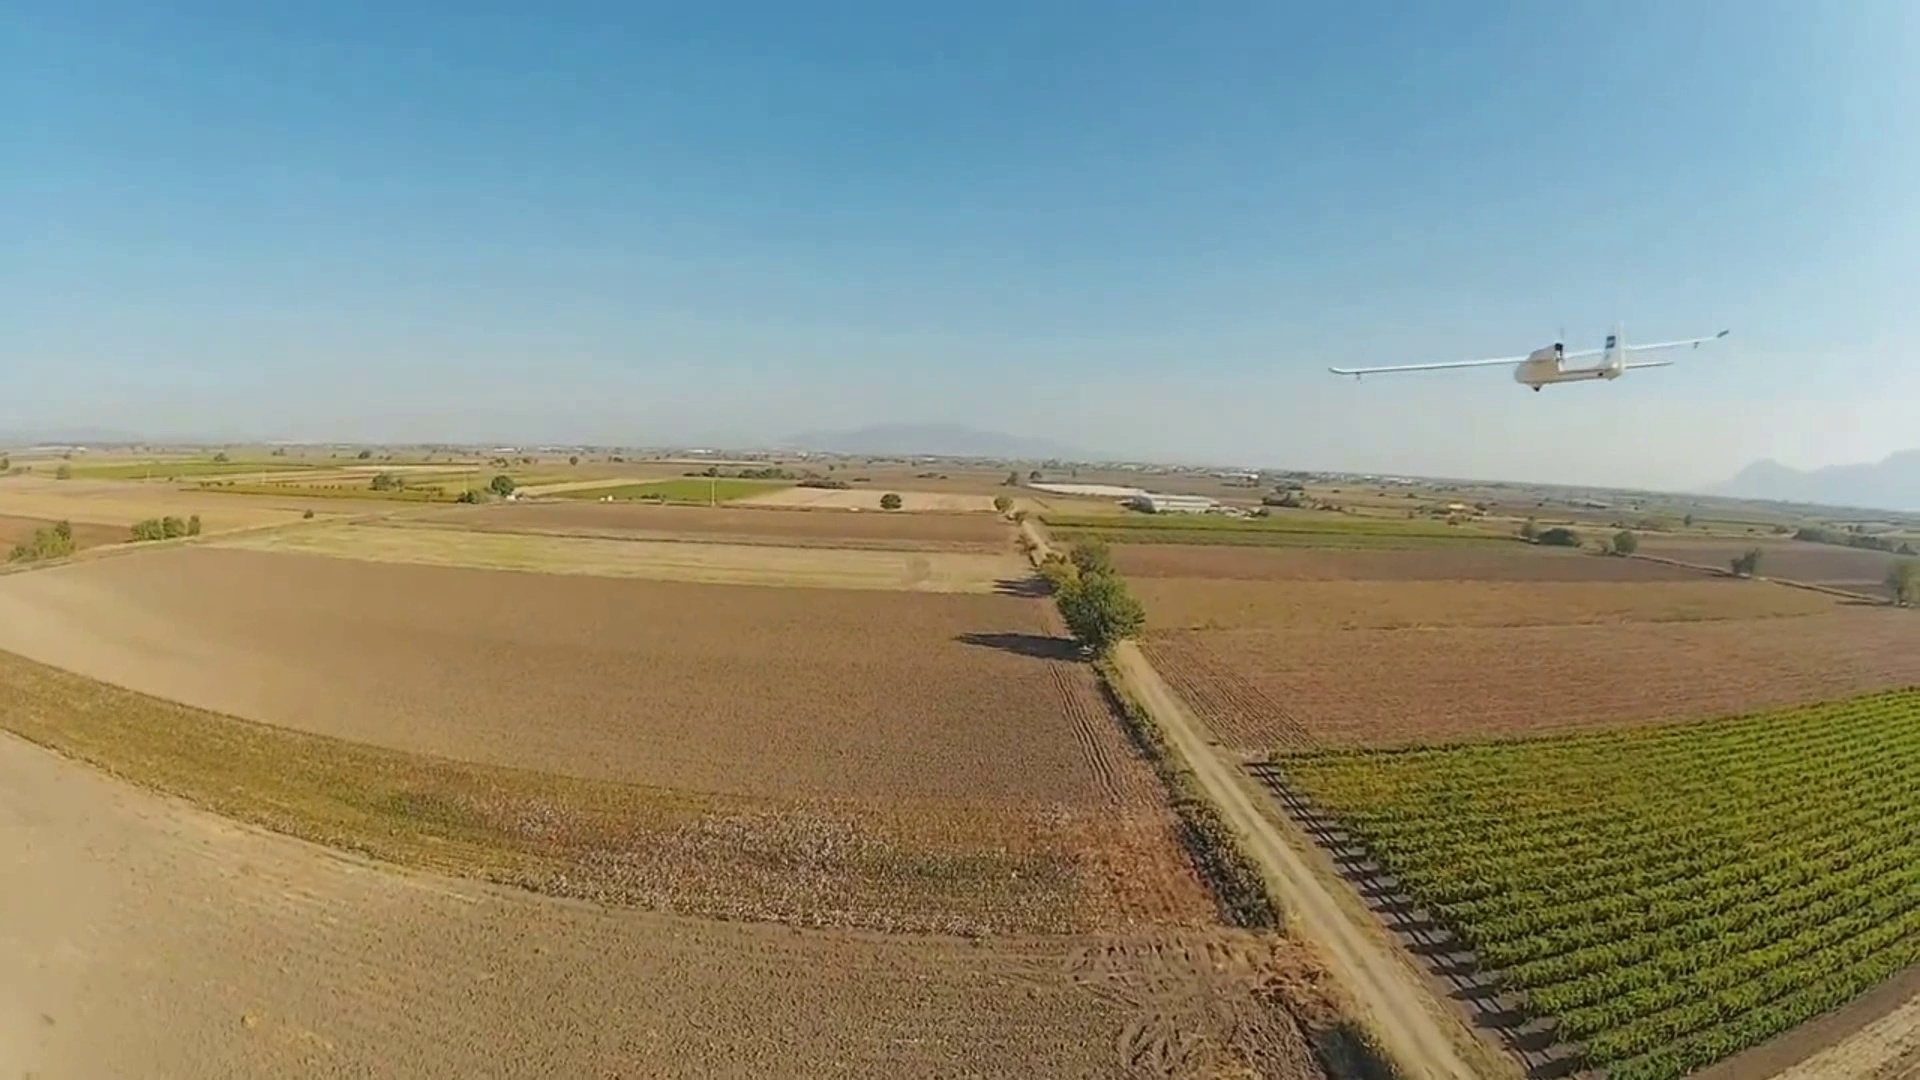airplane: (1325, 318, 1734, 390)
